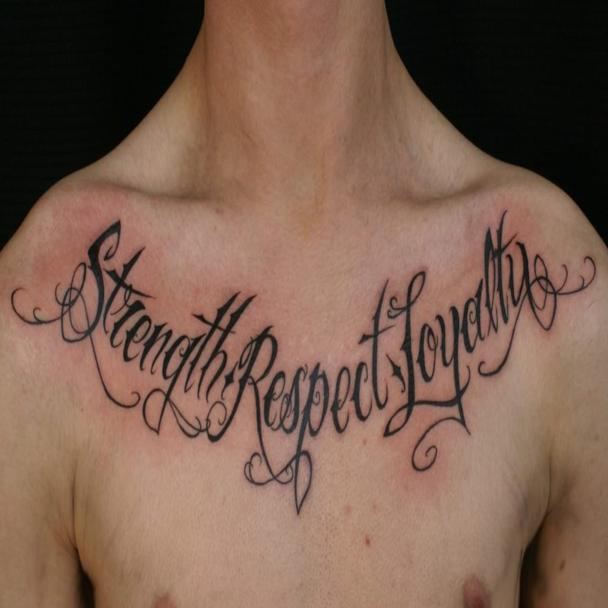tattoos: (8, 209, 597, 517)
